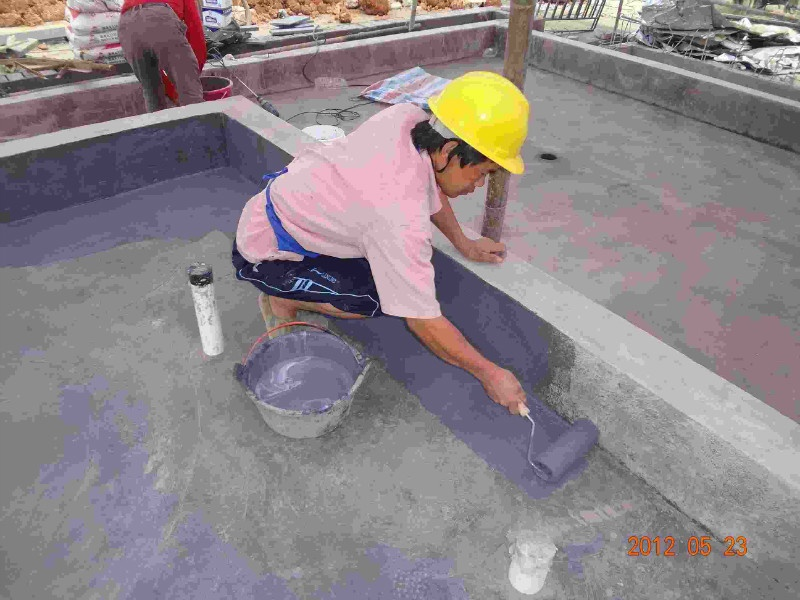yellow: (422, 70, 530, 206)
